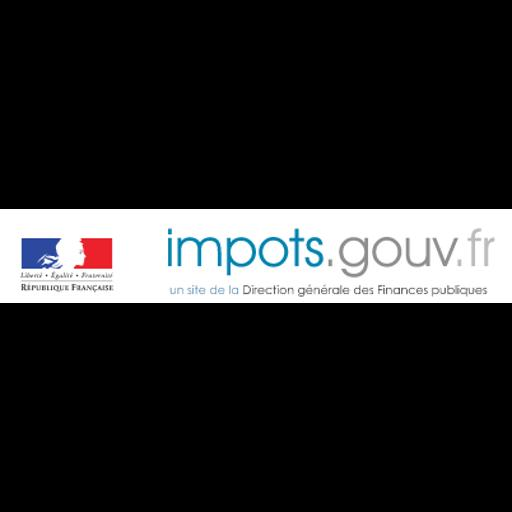DGI -French Tax Authority-: (0, 209, 512, 303)
